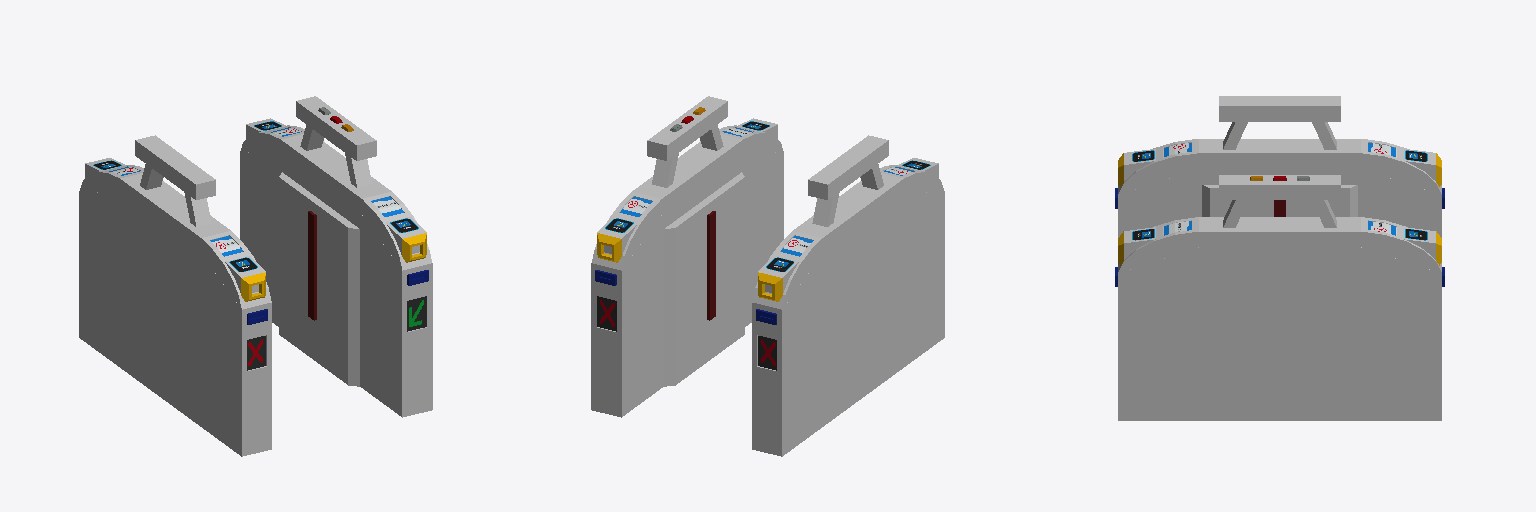
3 views of the same model, side by side, from view 1: azimuth 30°, elevation 25°; view 2: azimuth 150°, elevation 25°; view 3: azimuth 270°, elevation 25° (orthographic).
Visible parts, largest first — view 1: cube, led, cylinder, ic_cheker; view 2: cube, led, cylinder, ic_cheker; view 3: cube, cylinder, led, ic_cheker.
Boxes of the visible parts, box(x1,y1,x2,y2) form: cube: box(79, 134, 432, 456); led: box(135, 96, 376, 226); cylinder: box(80, 125, 431, 309); ic_cheker: box(85, 118, 426, 301); cube: box(591, 134, 944, 456); led: box(647, 96, 888, 226); cylinder: box(592, 125, 943, 309); ic_cheker: box(597, 118, 938, 301); cube: box(1118, 139, 1441, 420); cylinder: box(1118, 139, 1441, 272); led: box(1219, 96, 1340, 227); ic_cheker: box(1118, 149, 1441, 265).
Bounding box in the file's own units: 1.19 × 1.41 × 1.78.
Materials: 11 (9 with a texture image).